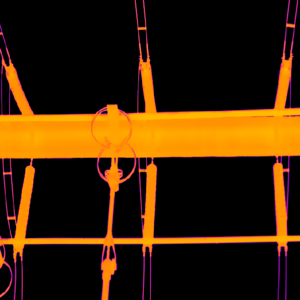insulator: (12, 163, 35, 248), (4, 65, 34, 115), (141, 163, 157, 237), (271, 162, 287, 235), (272, 60, 292, 108), (140, 62, 157, 112)
